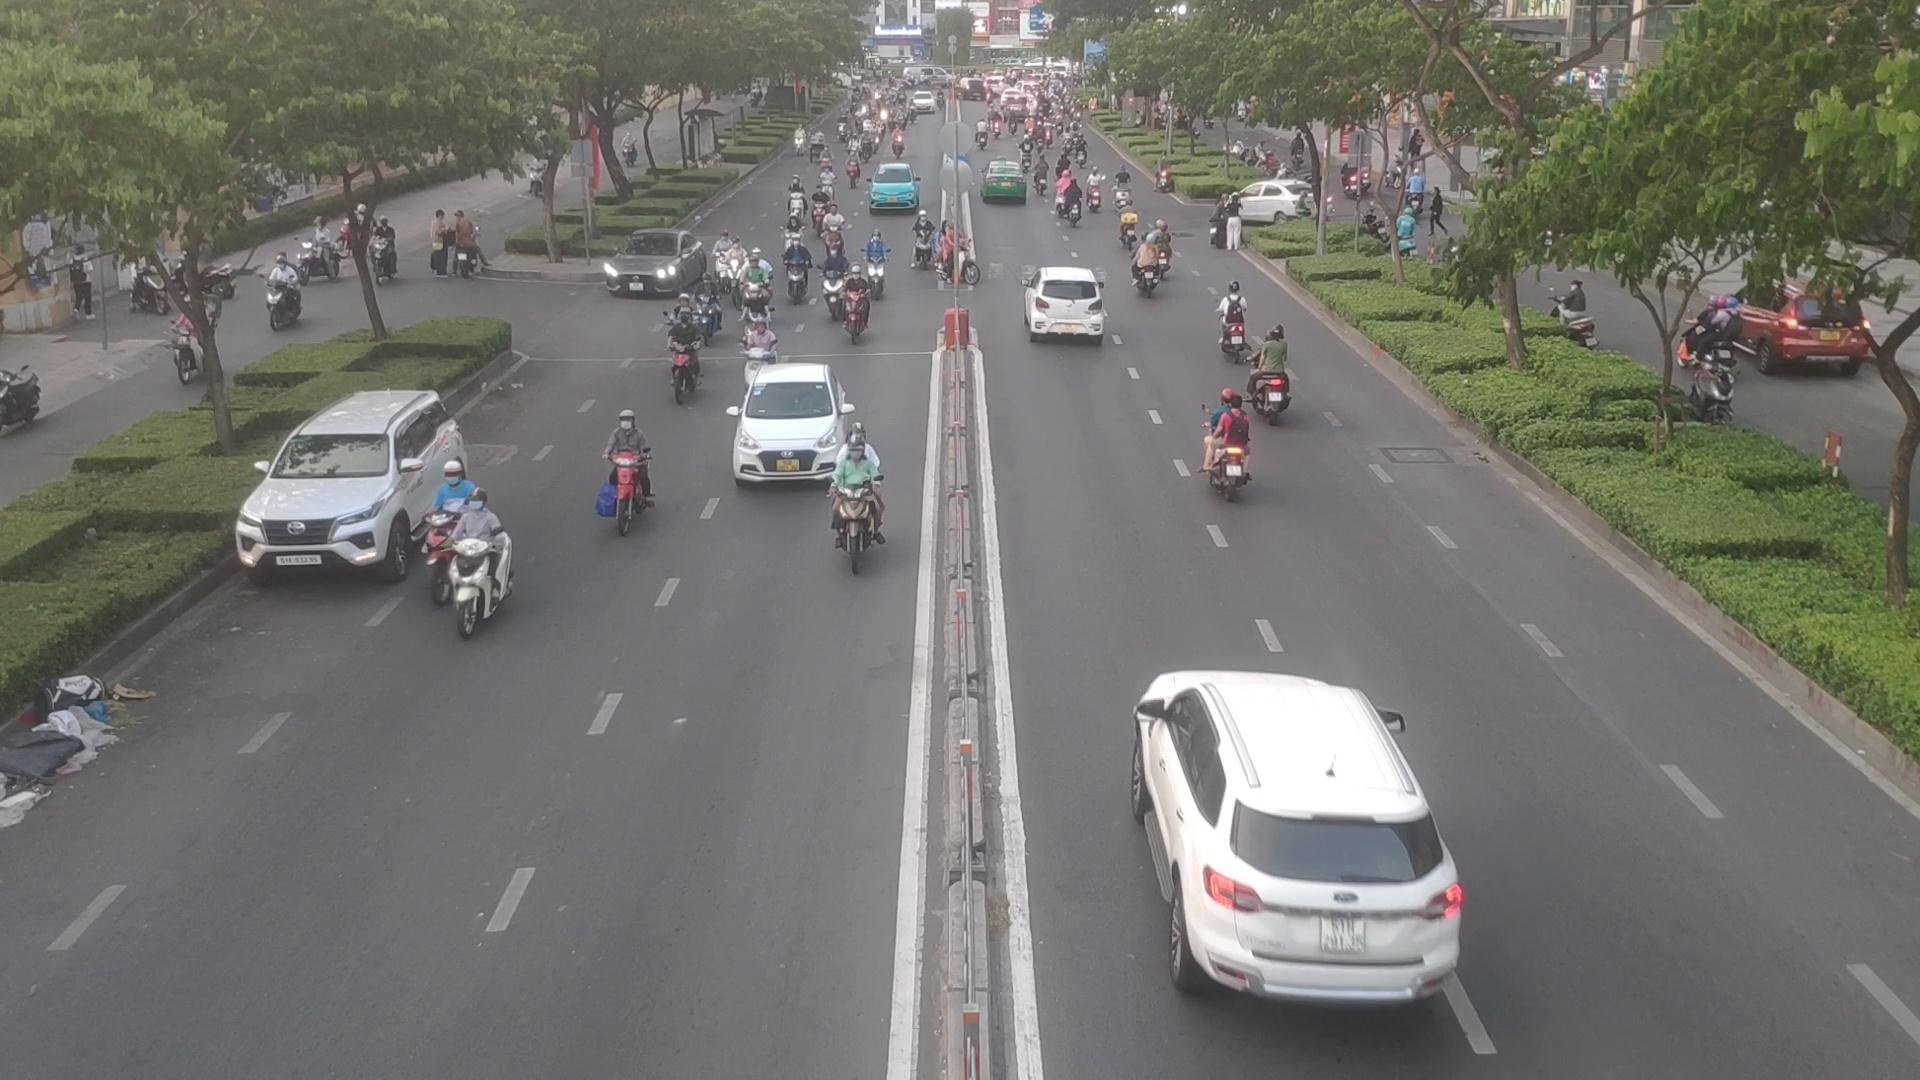car: (1137, 680, 1469, 1009), (231, 390, 481, 585), (727, 364, 847, 484), (603, 232, 711, 301), (1025, 268, 1112, 345), (866, 161, 922, 210), (977, 158, 1029, 204)
motorbike: (430, 517, 518, 636), (833, 423, 901, 578), (592, 418, 665, 527), (1208, 400, 1261, 498), (862, 236, 897, 305), (740, 320, 775, 385), (1247, 372, 1291, 423), (669, 349, 705, 402), (731, 264, 769, 313), (847, 274, 876, 338), (1218, 284, 1246, 343), (1150, 229, 1184, 272), (820, 260, 848, 310), (825, 214, 856, 258), (775, 220, 806, 262), (725, 243, 746, 299), (1130, 243, 1156, 287), (783, 249, 804, 305), (783, 174, 808, 218), (707, 247, 731, 289), (810, 185, 827, 239), (1065, 183, 1085, 229), (1034, 158, 1054, 200), (1117, 208, 1137, 249), (1116, 178, 1137, 211), (1052, 177, 1068, 214), (1087, 179, 1102, 210)
